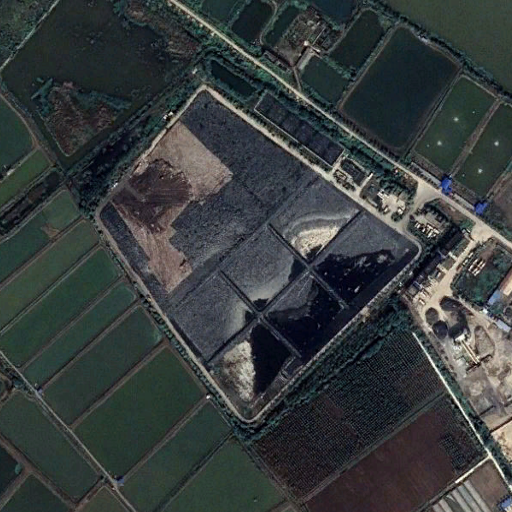lf: (97, 86, 420, 423)
